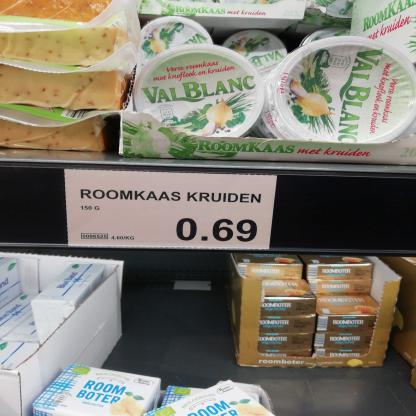prtg: (65, 169, 278, 252)
